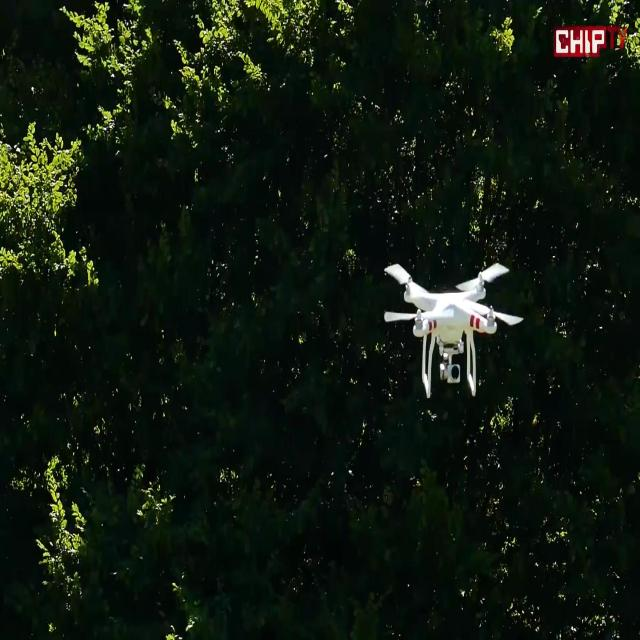Drone_FW: (383, 260, 524, 399)
